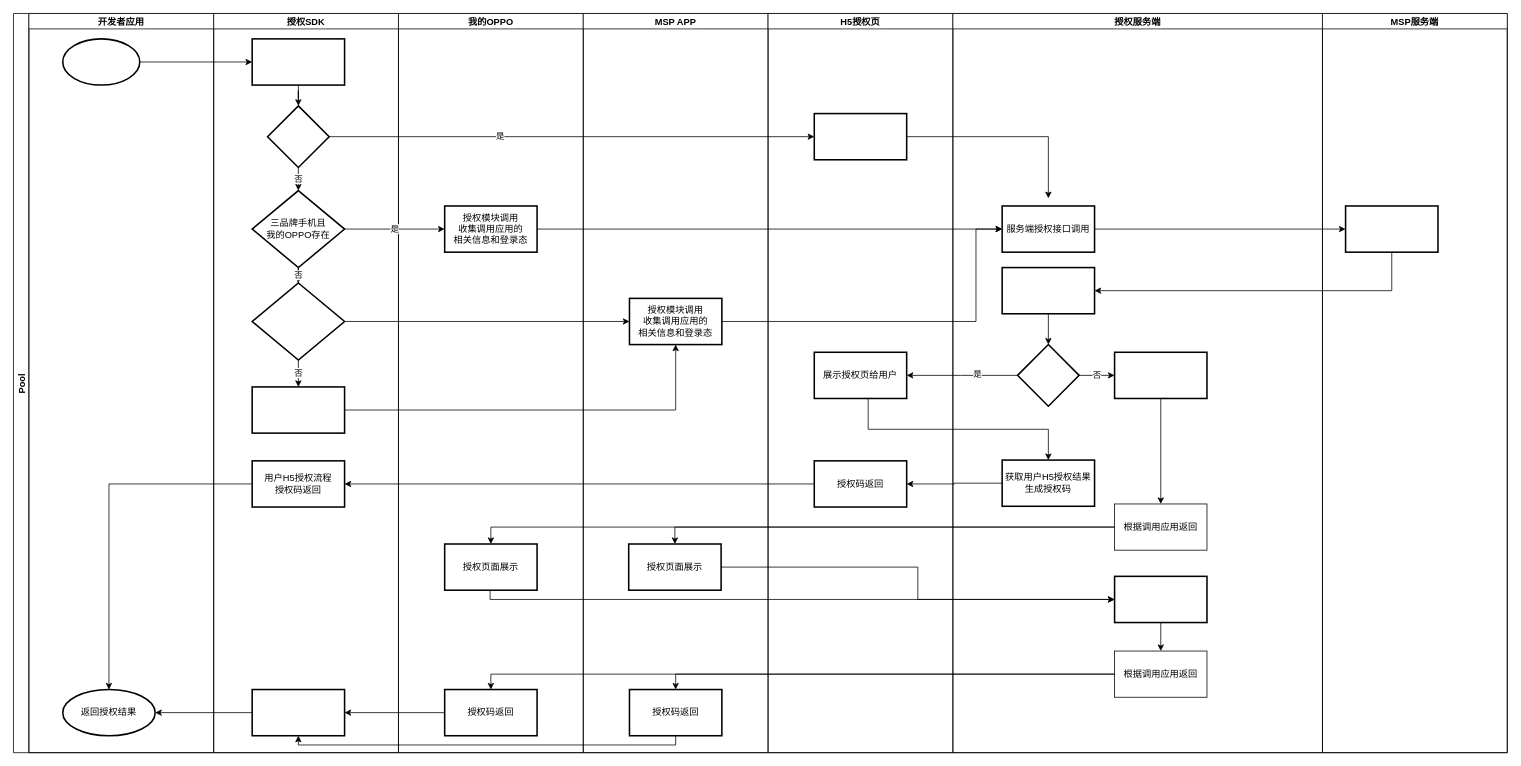
Some shapes in this 1521 by 766 pixel diagram are drawn without their labels. Each missing label, with the centre of its shape:
H5授权流程: point 860,136
MSP APP是否存在: point 298,321
下载并安装MSP APP: point 298,410
应用能力复合鉴权: point 1391,229
开发者授权调用: point 101,61
授权SDK调用: point 298,61
是否H5授权: point 1048,375
是否使用 H5授权: point 298,136
用户客户端授权流程 授权码返回: point 298,712
获取用户授权结果 生成授权码: point 1160,599
获取鉴权结果: point 1048,290
返回授权页面地址: point 1160,375
